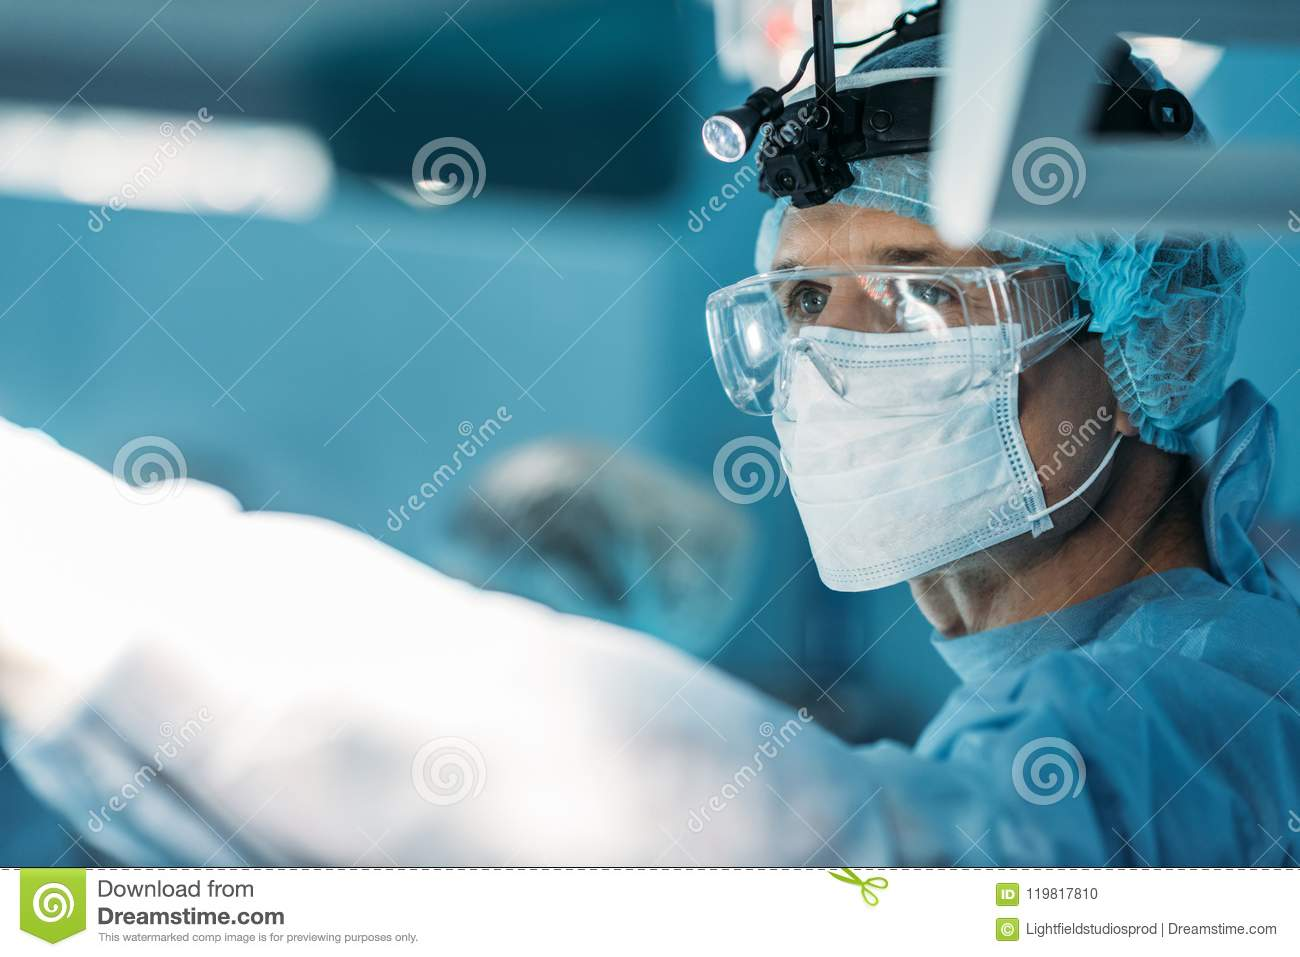mask: (754, 323, 1051, 595)
